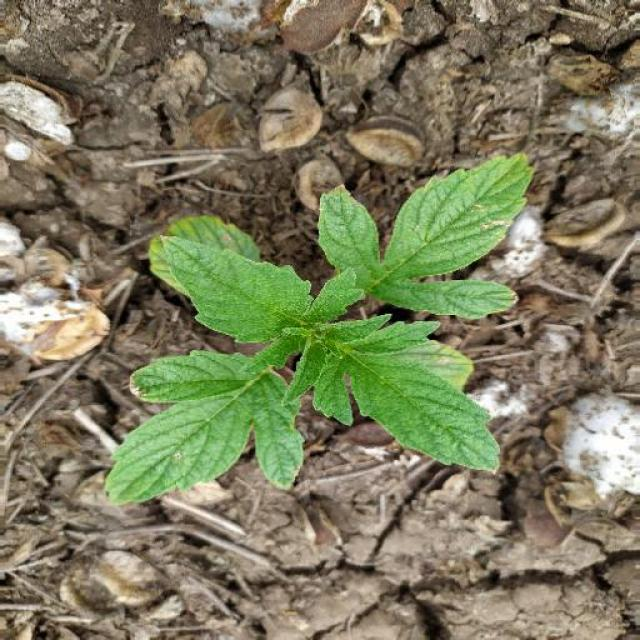crop: (79, 145, 552, 511)
